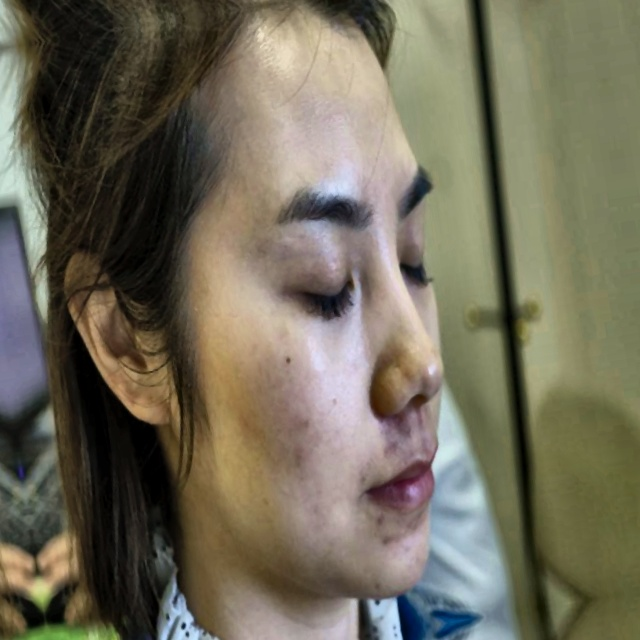comedone: (388, 417, 420, 455), (376, 522, 401, 553)
